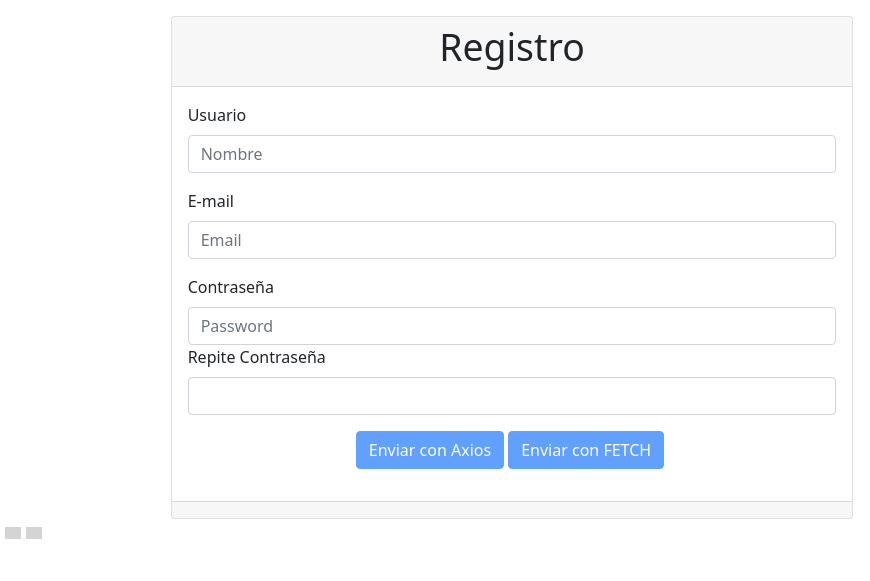
Sign Up Page › interactions › should verify that $field field has an error
The image size is (870, 581).
Type "Carlos" into the field with test id "username".
click(512, 154); type("Carlos")  # box [188, 135, 836, 173]
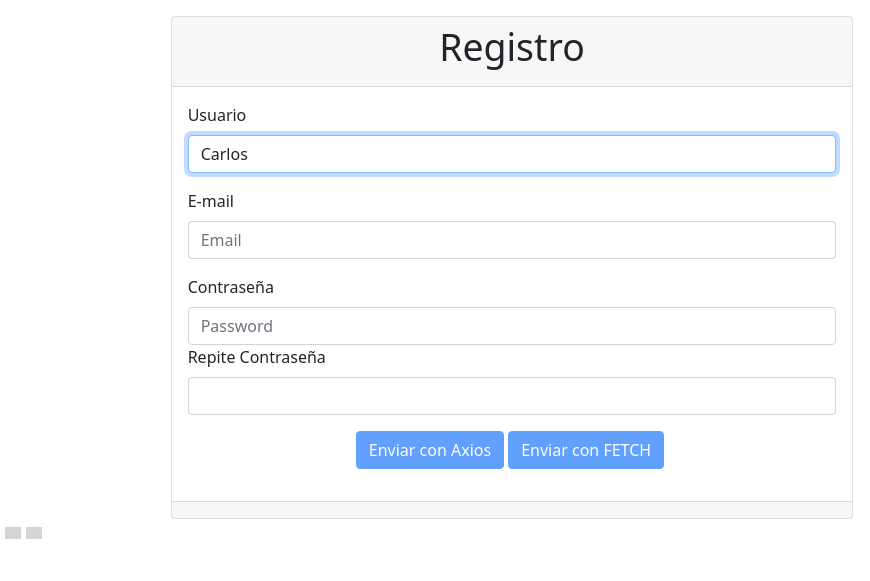
Type "carloscpu83@gmail.com" into the field with test id "email".
click(512, 240); type("carloscpu83@gmail.com")  # box [188, 221, 836, 259]
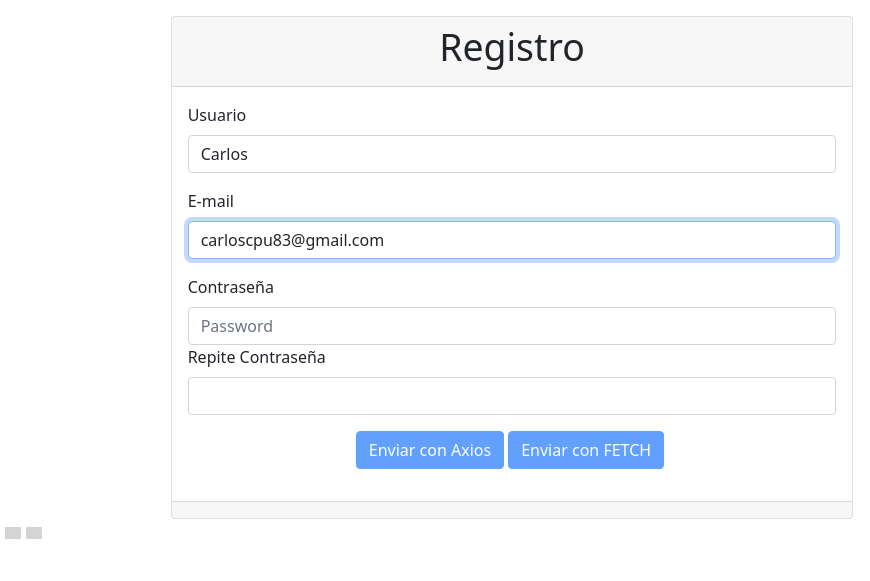
Type "M1pass" into the password field with test id "password".
click(512, 326); type("M1pass")  # box [188, 307, 836, 345]
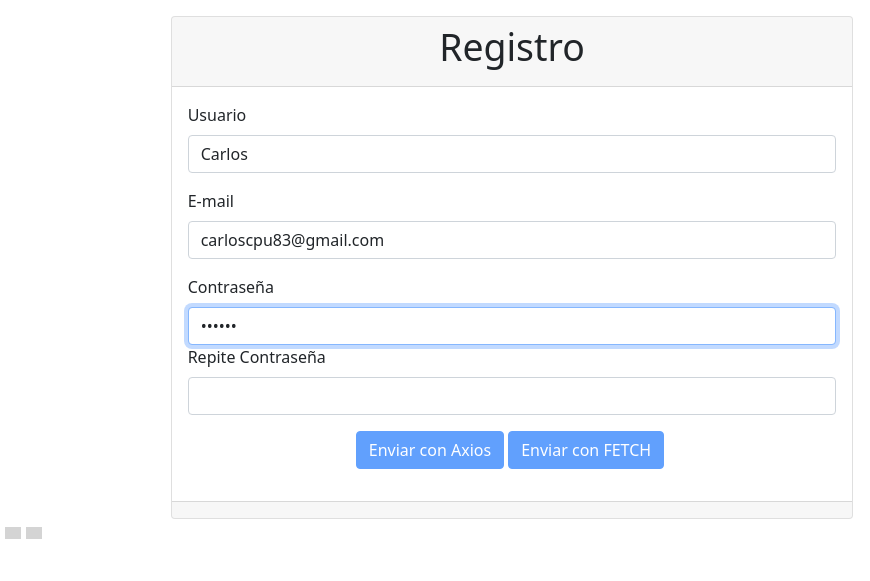
Type "M1pass" into the password field with test id "repeatPassword".
click(512, 396); type("M1pass")  # box [188, 377, 836, 415]
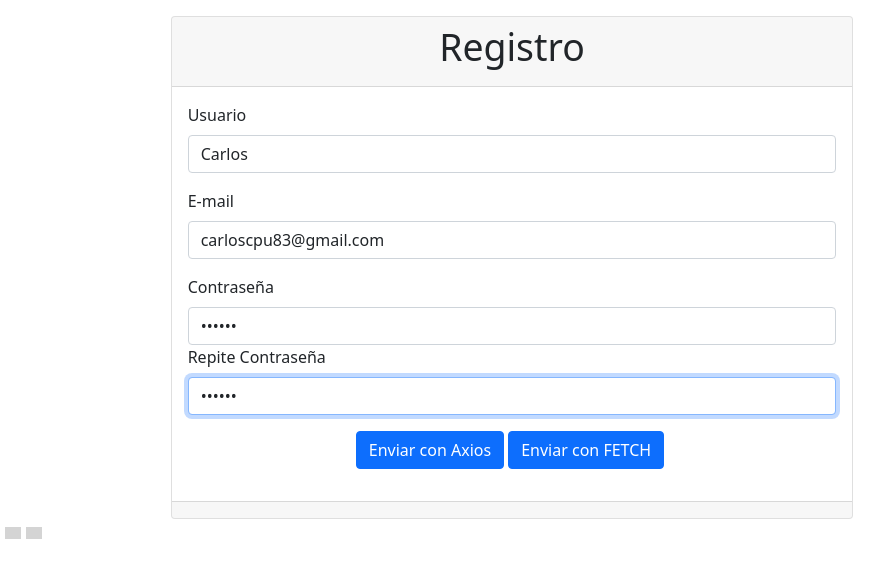
Click the button with test id "sendButton".
click(430, 450)  # box [356, 431, 504, 469]
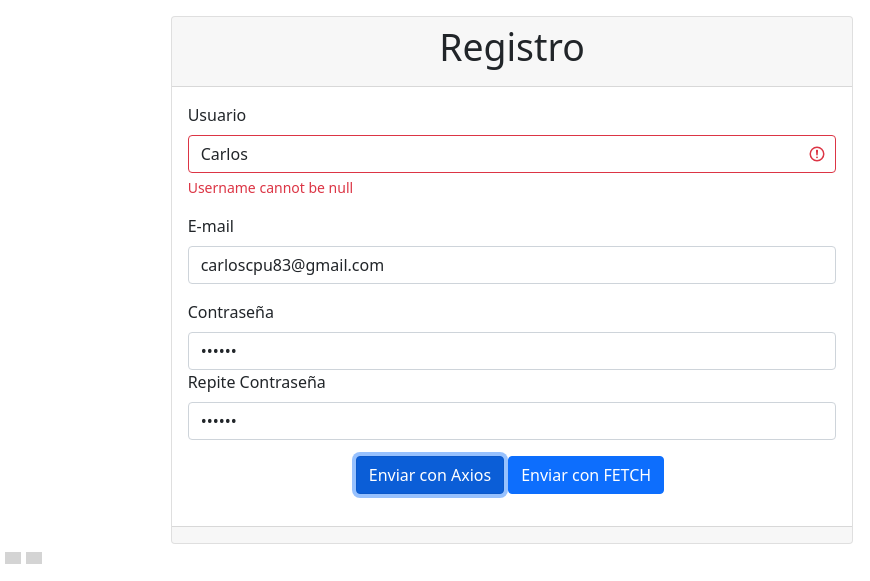
Result: the text "Username cannot be null" is shown at [188, 178, 353, 197]
